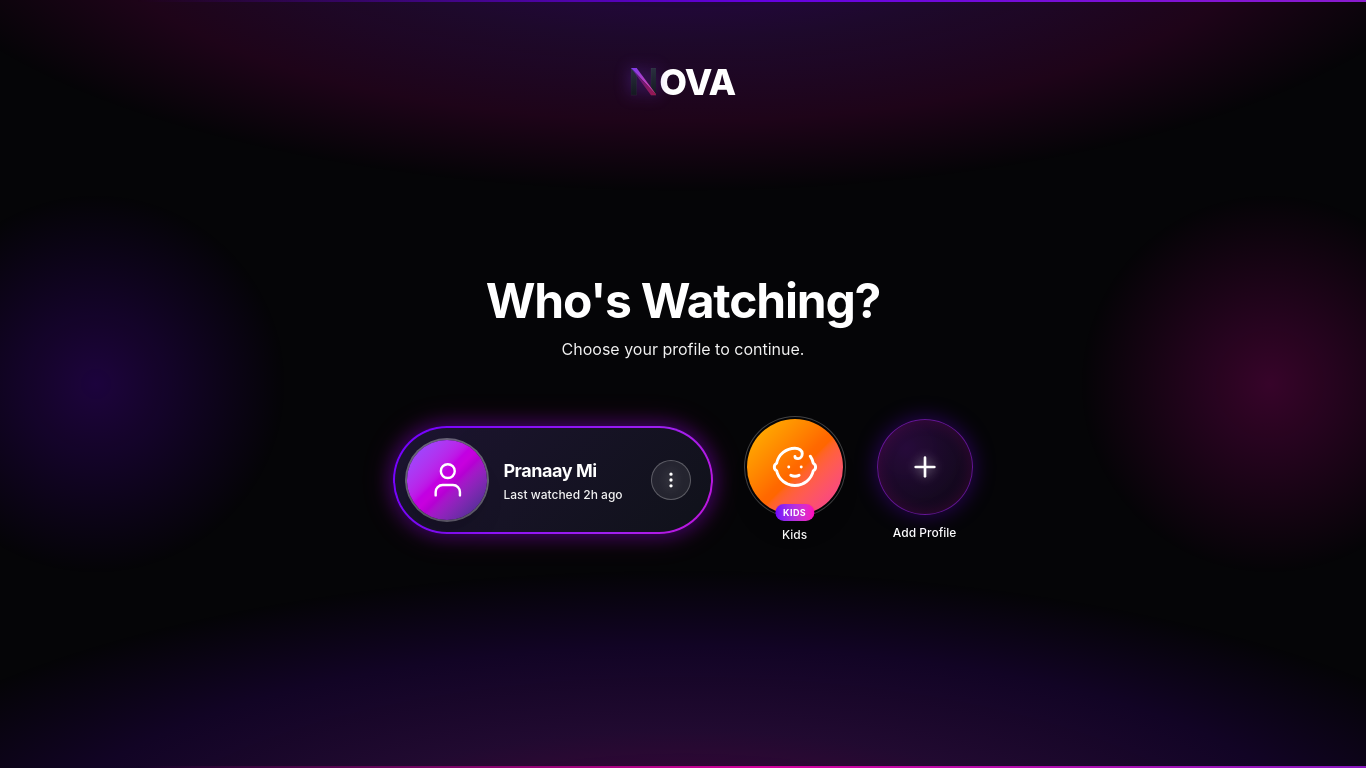
Test: TV profile selection page › expands the hovered or focused profile into a pill card and supports three-dot menu actions
The image size is (1366, 768).
Hover over the list item named "Watch as Kids".
mouse_move(795, 480)  # box [745,417,845,543]
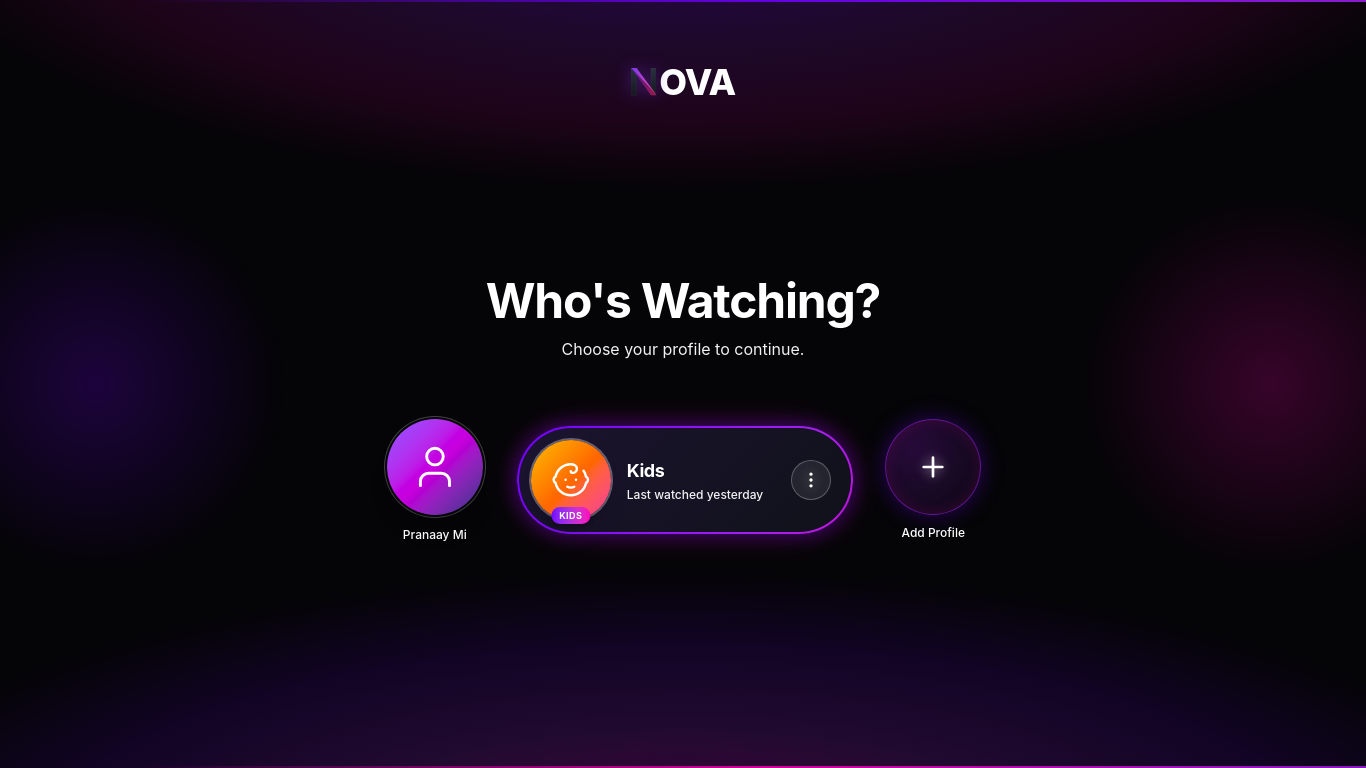
Expected: the list item named "Watch as Kids" has attribute data-profile-expanded="true", [517,426,853,534]
Expected: the list item named "Watch as Pranaay Mi" has attribute data-profile-expanded="false"
Hover over the list item named "Watch as Pranaay Mi".
mouse_move(435, 480)  # box [385,417,485,543]
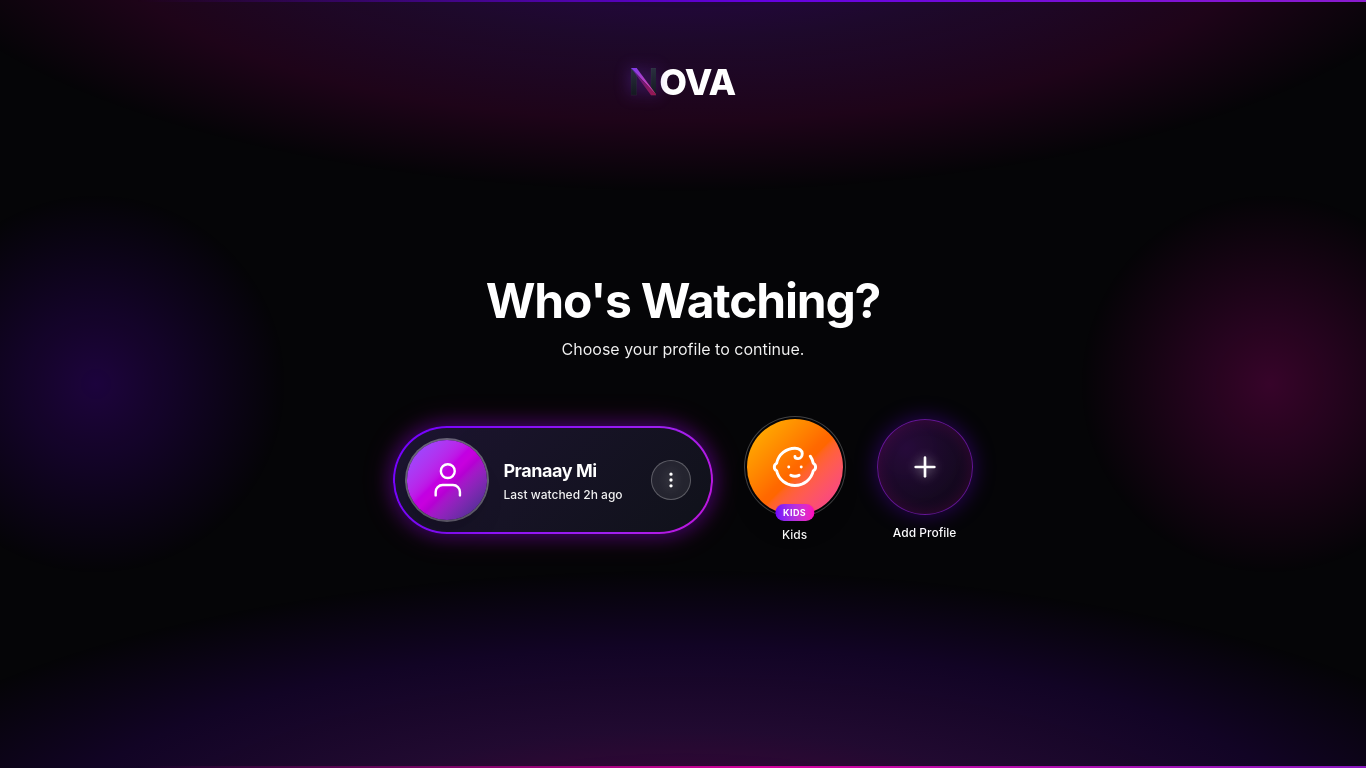
Click the button named "Profile options for Pranaay Mi".
click(671, 480)  # box [651,460,691,500]
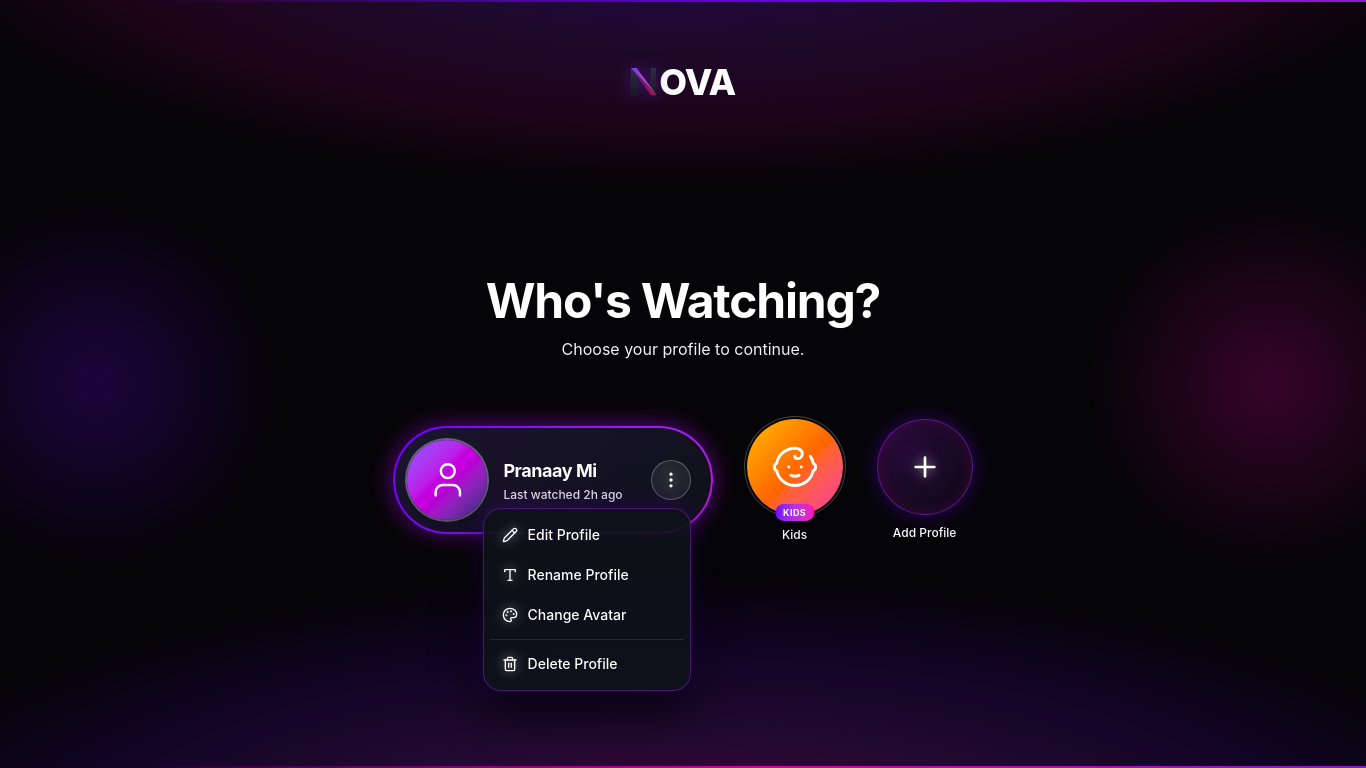
Expected: the menu item "Edit Profile" is shown, [490,515,684,555]
Expected: the menu item "Rename Profile" is shown
Expected: the menu item "Change Avatar" is shown, [490,595,684,635]
Click the menu item "Rename Profile".
click(587, 575)  # box [490,555,684,595]
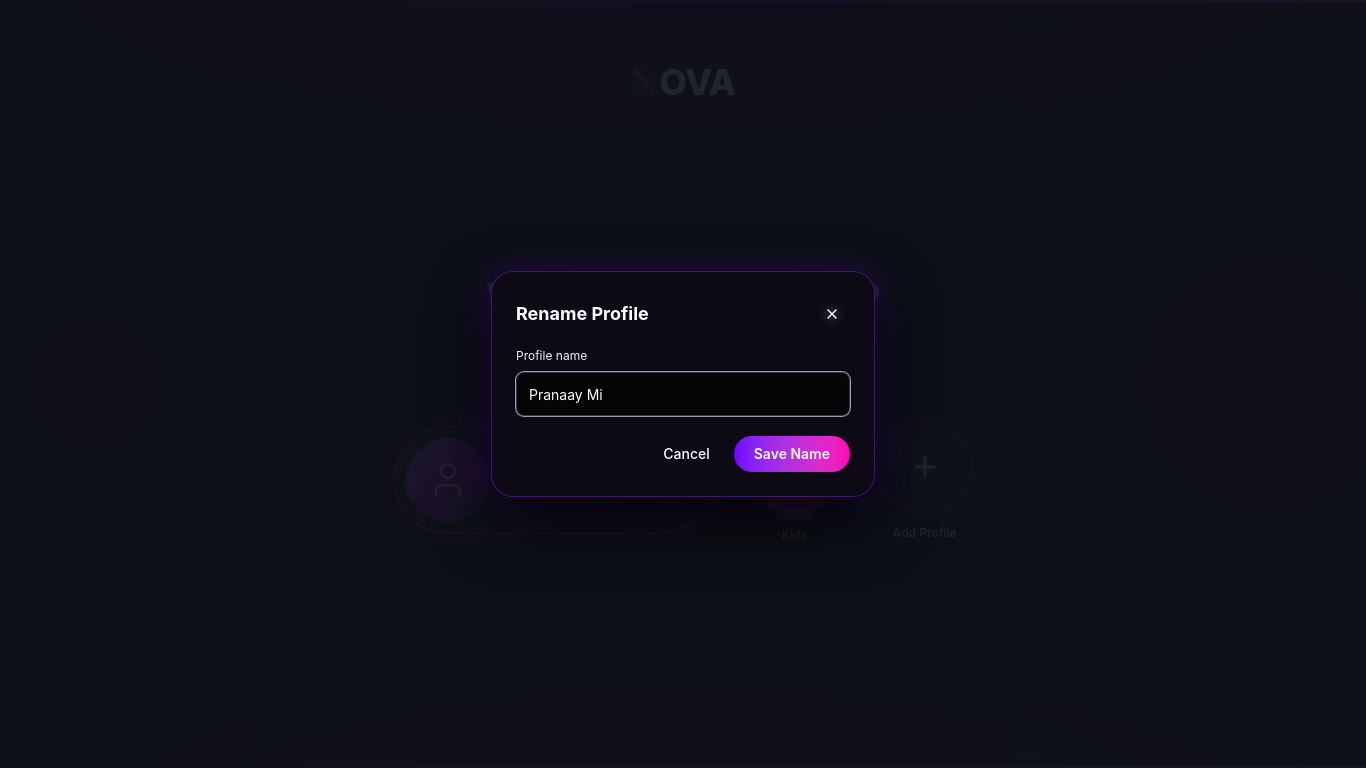
Replace the text in the field labelled "Profile name" with "Aarav" at (683, 394), box [516,372,850,416]
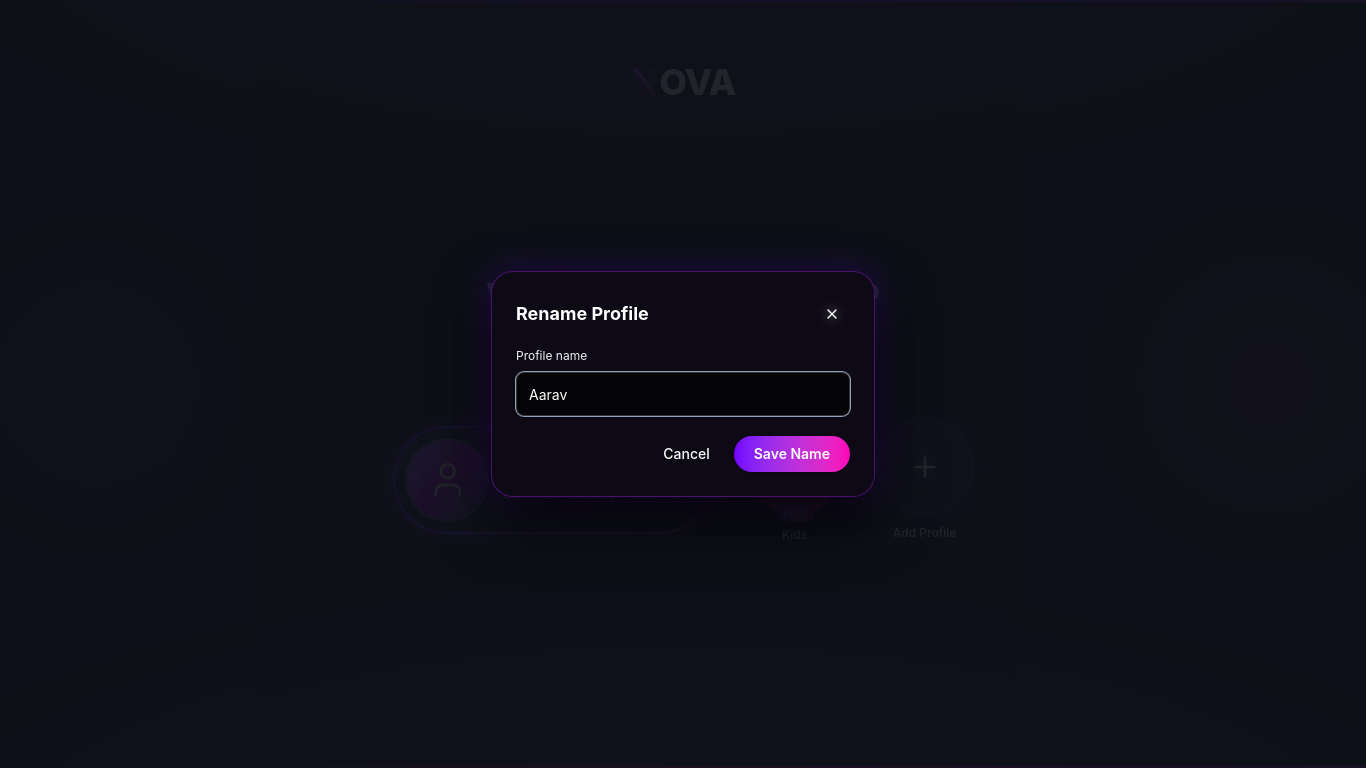
Click the button "Save Name".
click(792, 454)  # box [734,436,850,472]
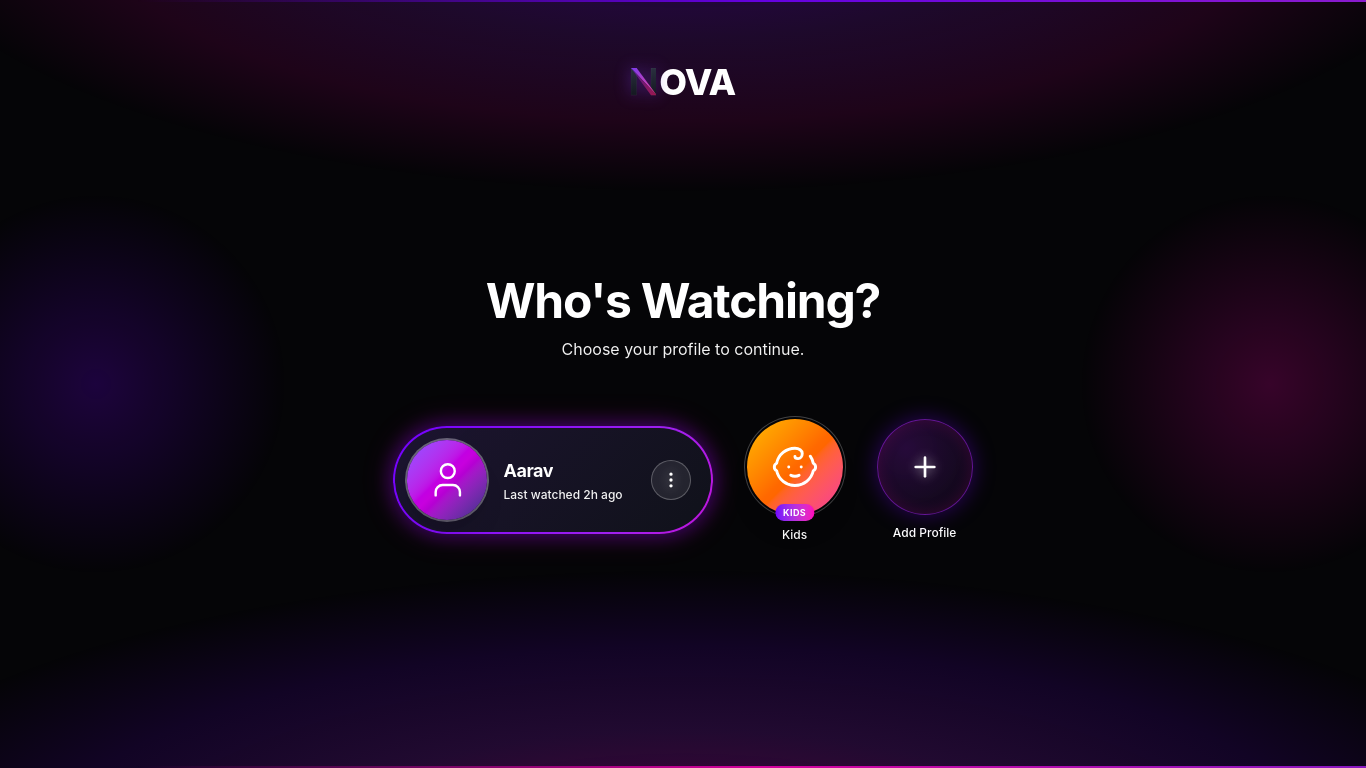
Expected: the button with aria-label "Watch as Aarav" is shown, [407,440,631,520]
